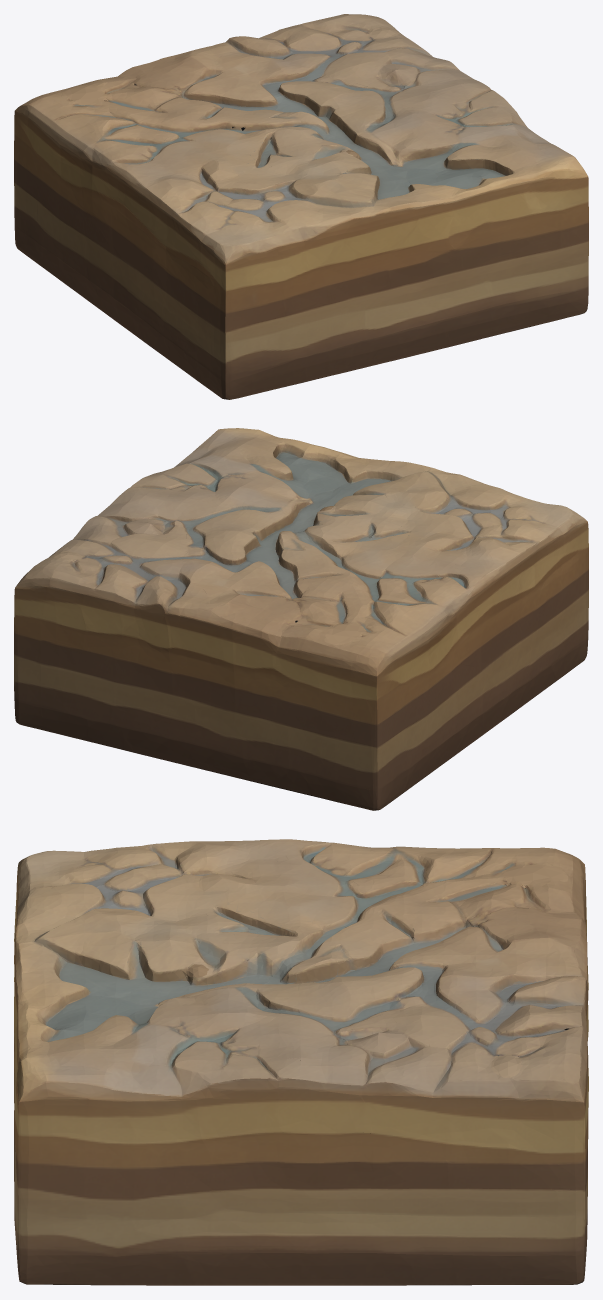
3 views of the same model, one above another, from view 1: azimuth 30°, elevation 25°; view 2: azimuth 150°, elevation 25°; view 3: azimuth 270°, elevation 25° (orthographic). The views are drawn at different scales.
Parts seen in each view (by area): view 1: world; view 2: world; view 3: world.
Part boxes in pixels (x1=…): world: x1=14, y1=14, x2=588, y2=399; world: x1=14, y1=428, x2=588, y2=810; world: x1=14, y1=839, x2=588, y2=1285.
Size of the model in its own units: 5.99 by 2.5 by 6.
1 material, 1 textured.
